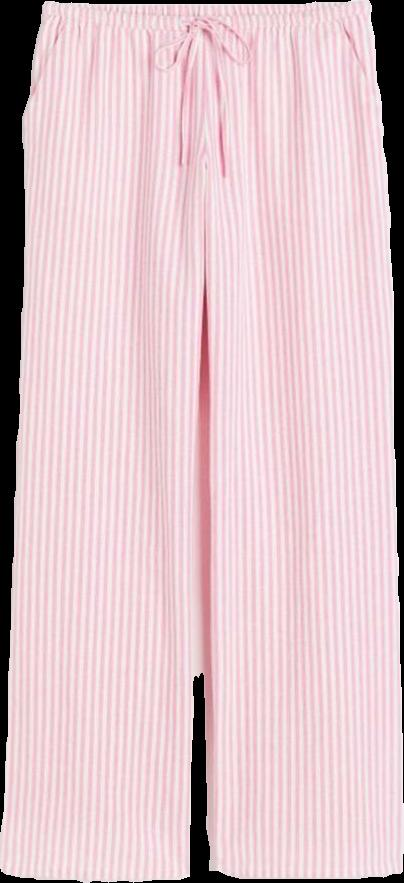Hemline: (0, 863, 193, 882), (204, 863, 403, 880)
Pantleg: (0, 2, 203, 882), (201, 0, 402, 878)
Waistline: (36, 0, 374, 15)
